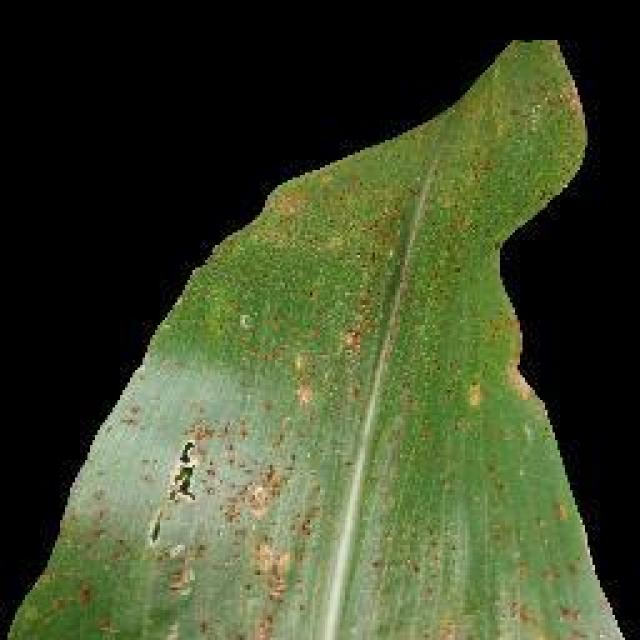Corn Common Rust: (135, 382, 388, 630)
